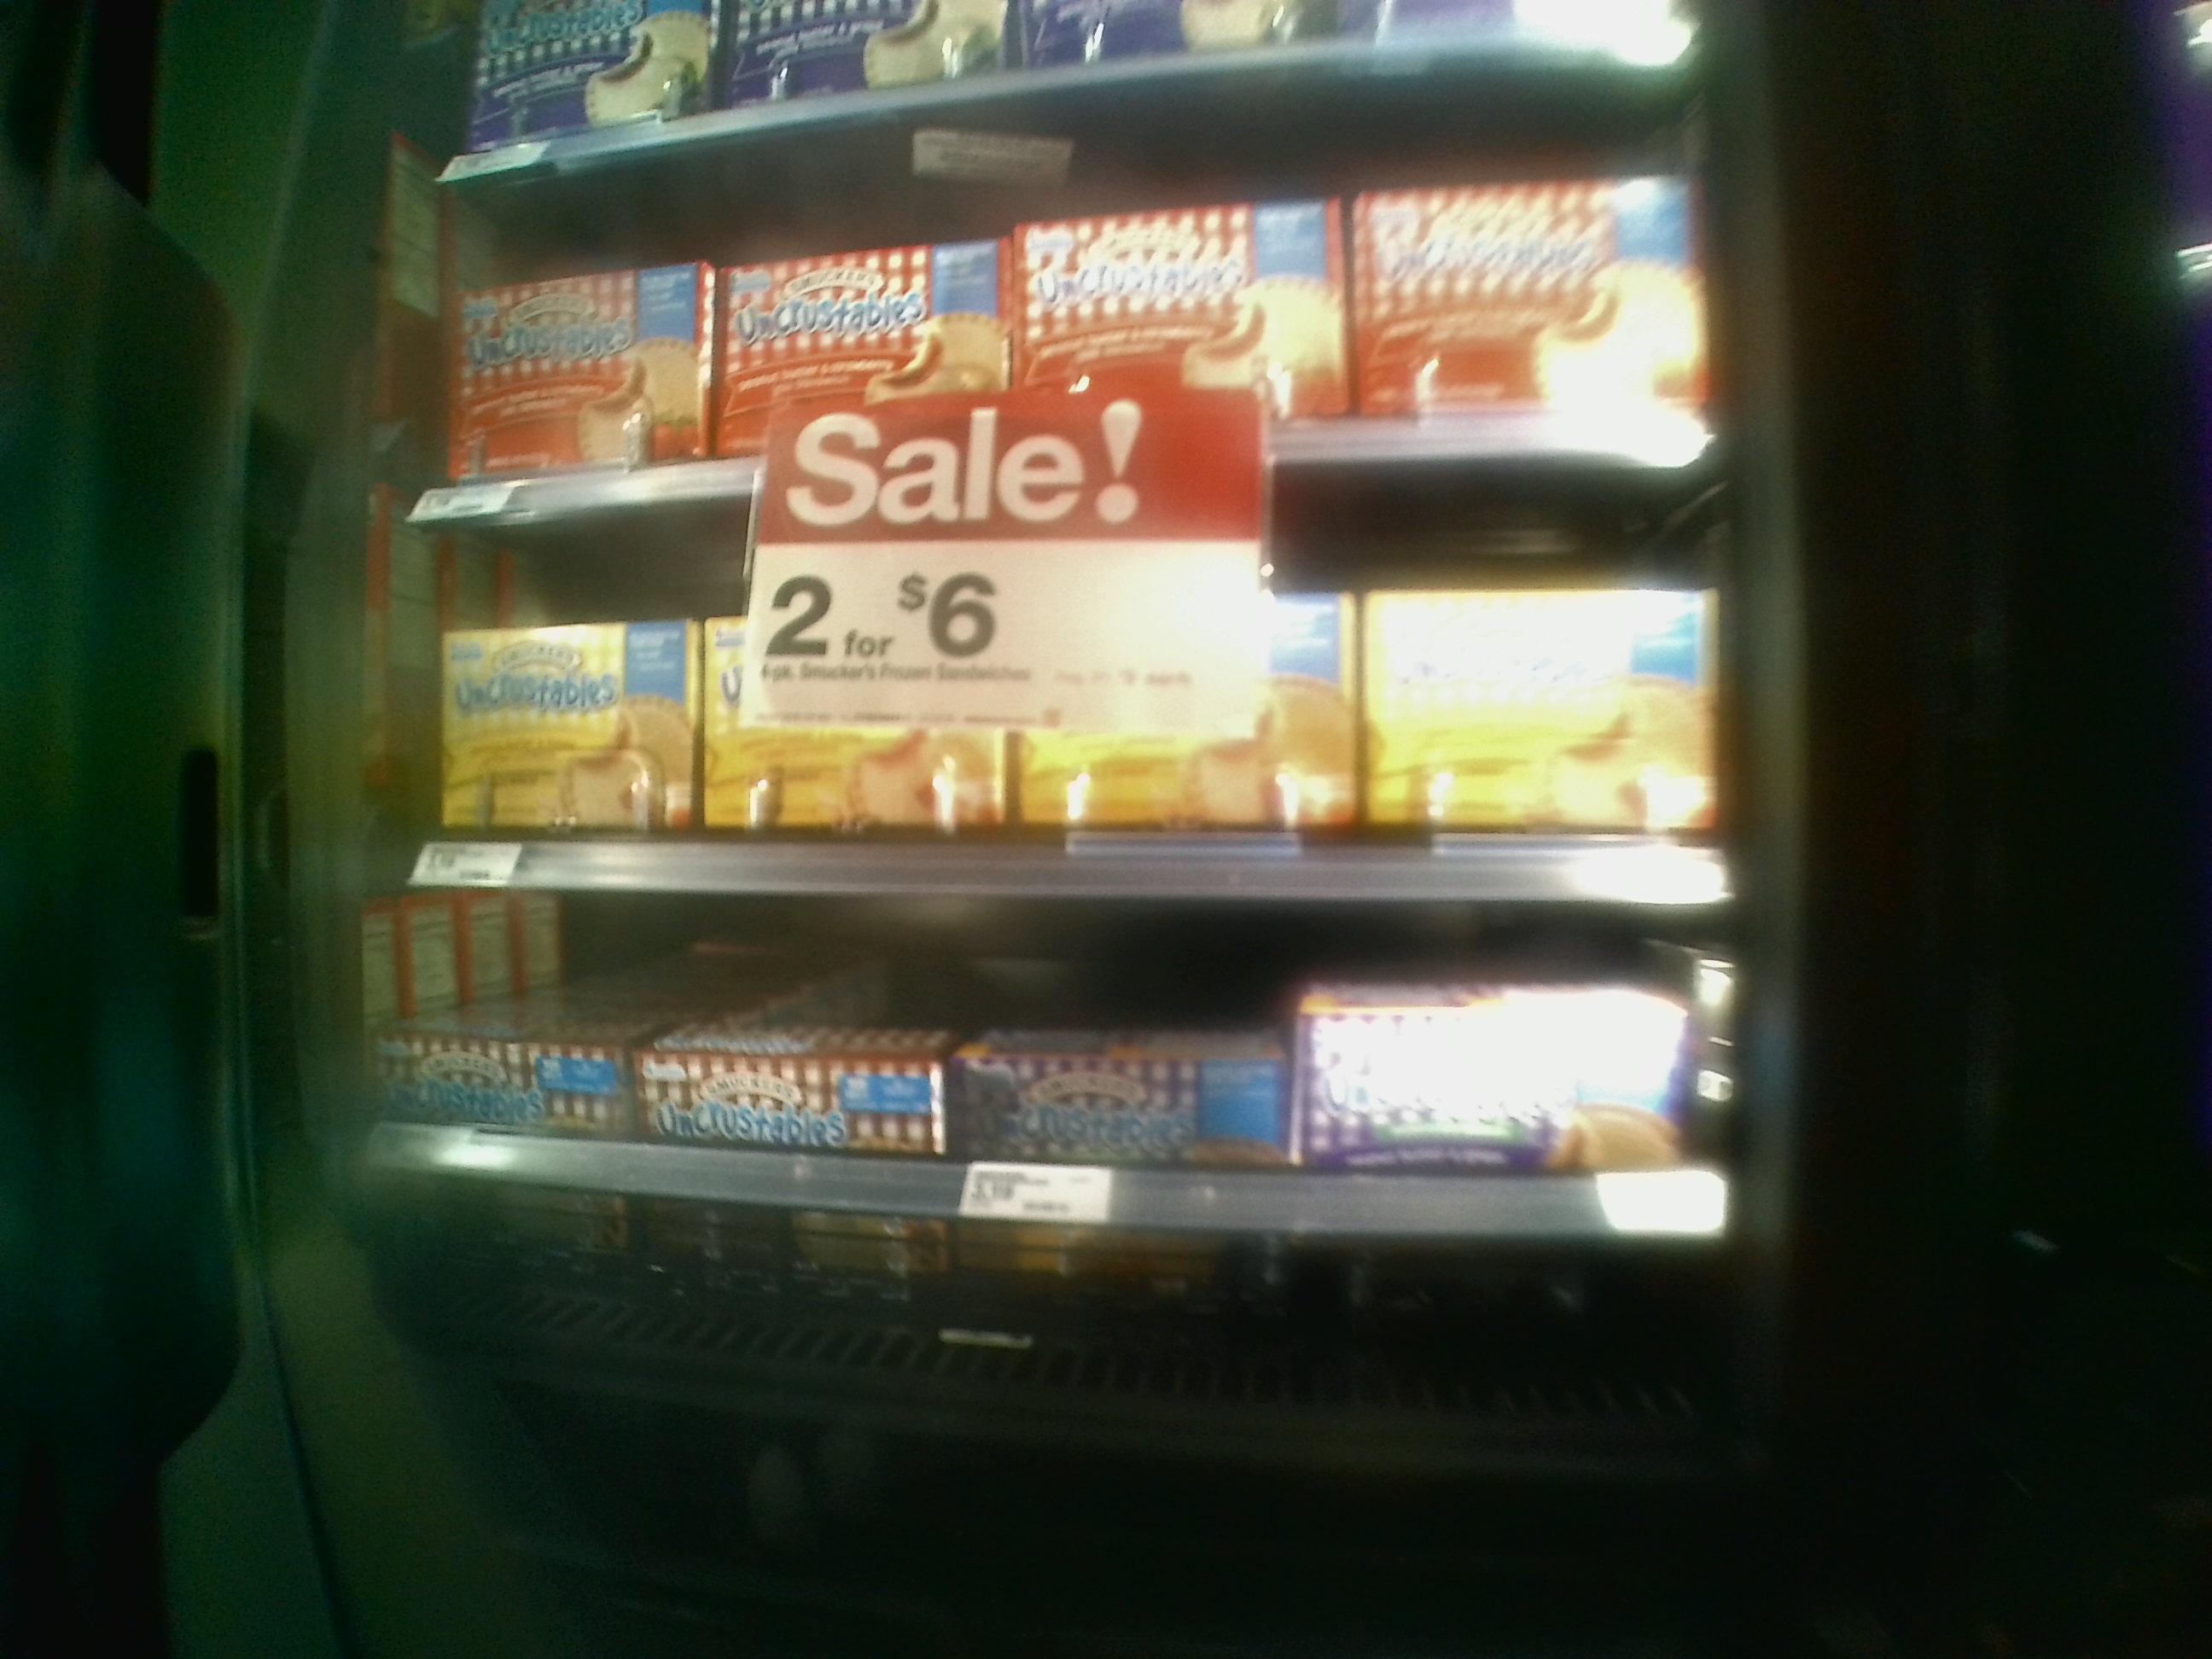shelf: (364, 892, 1740, 1389), (380, 530, 1716, 897), (394, 166, 1712, 481)
